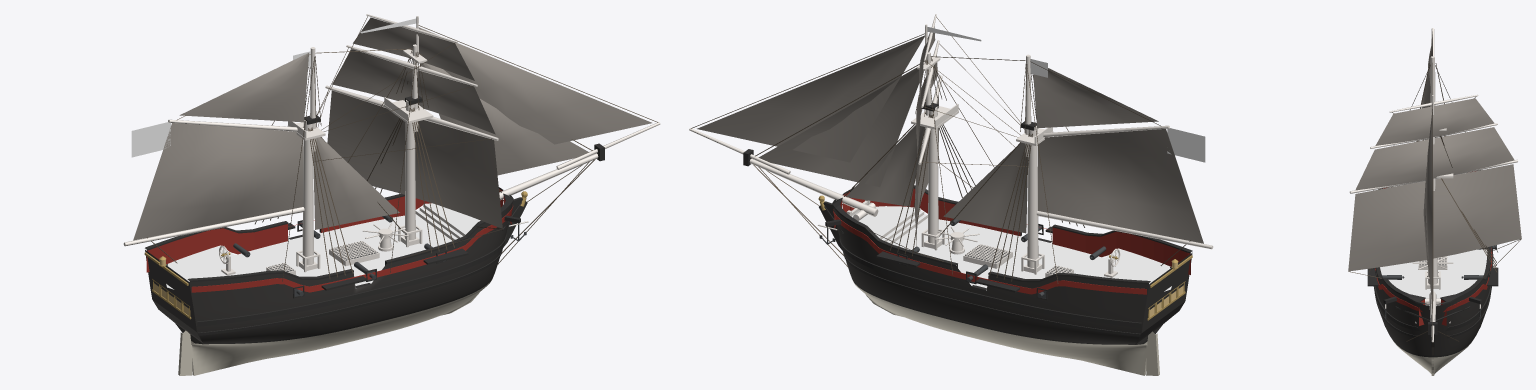
The model's file is brigantine_v2_lod1.glb.
The picture shows the model from 3 angles, left to right: view 1: azimuth 30°, elevation 25°; view 2: azimuth 150°, elevation 25°; view 3: azimuth 270°, elevation 25°; orthographic projection. The views are drawn at different scales.
Parts seen in each view (by area): view 1: SM_Brigantine_LOD1; view 2: SM_Brigantine_LOD1; view 3: SM_Brigantine_LOD1.
Boxes of the visible parts, x1=… form: SM_Brigantine_LOD1: x1=123, y1=14, x2=660, y2=375; SM_Brigantine_LOD1: x1=689, y1=14, x2=1213, y2=375; SM_Brigantine_LOD1: x1=1348, y1=28, x2=1521, y2=375.
Bounding box in the file's own units: 37.95 × 17.1 × 10.24.
